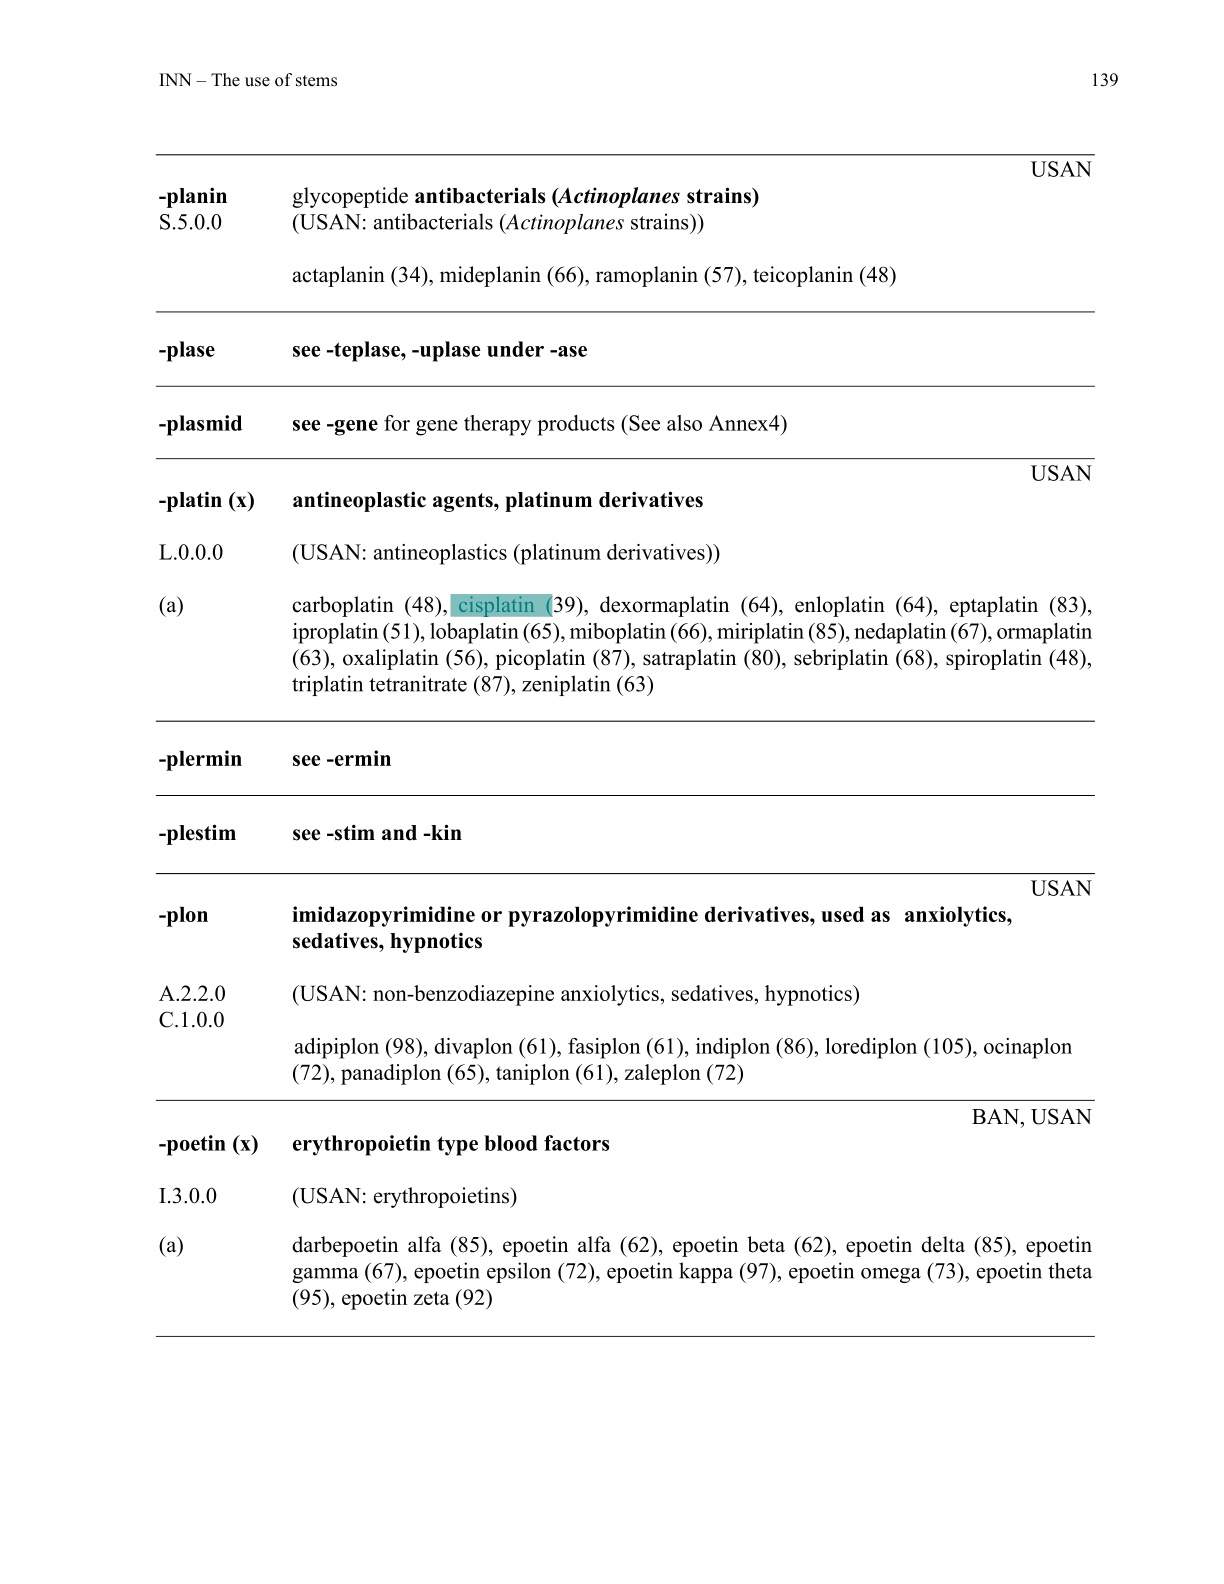partial_lined: (150, 152, 1101, 1338)
